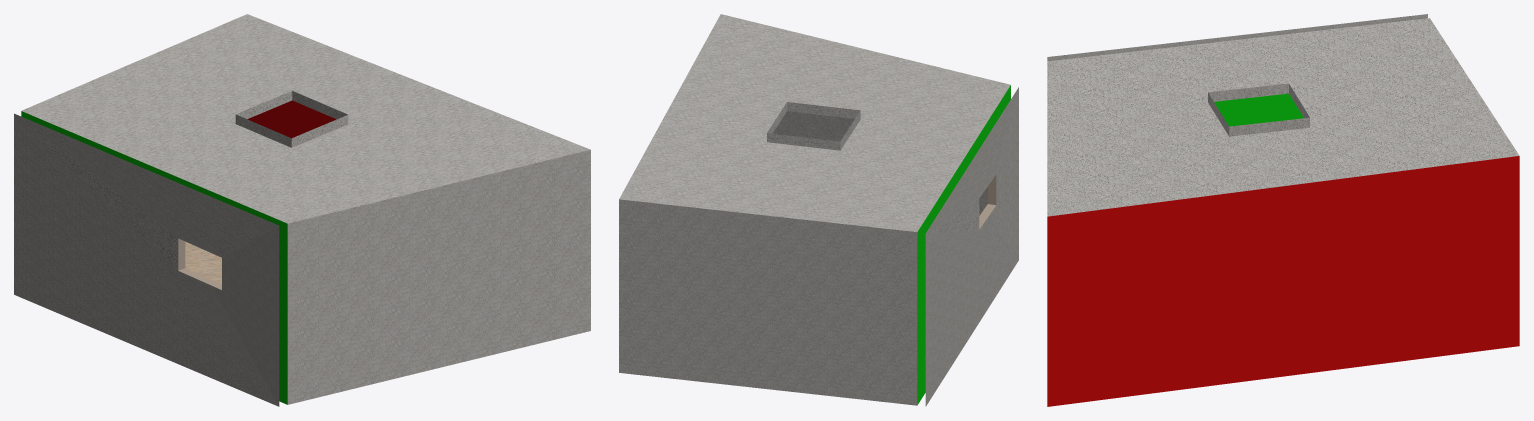
File: Room1.fbx
3 renders of one model, left to right at view 1: azimuth 30°, elevation 25°; view 2: azimuth 150°, elevation 25°; view 3: azimuth 270°, elevation 25°, orthographic. The views are drawn at different scales.
Parts seen in each view (by area): view 1: Room1; view 2: Room1; view 3: Room1.
Boxes of the visible parts, x1,y1,x2,y2 form: Room1: (14,14,590,406); Room1: (619,14,1018,406); Room1: (1047,14,1519,406).
Bounding box in the file's own units: 574 × 265 × 565.
